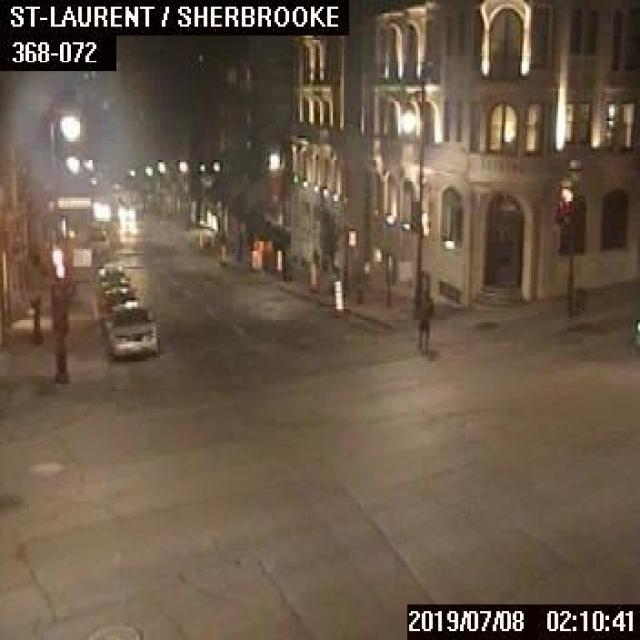construction: (331, 278, 345, 313), (274, 247, 282, 272)
pedestrian: (414, 286, 433, 352)
vehicle: (105, 304, 158, 358)
